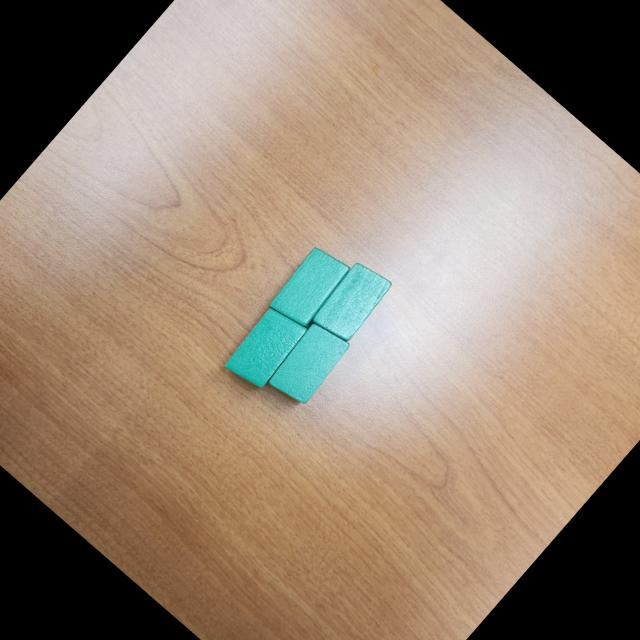green: (218, 298, 312, 396), (261, 315, 355, 412), (264, 239, 356, 335), (306, 255, 397, 349)
